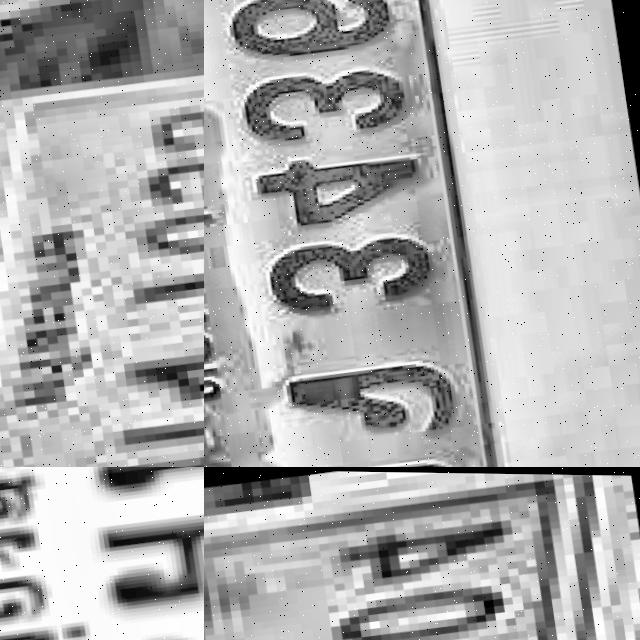license-plate: (204, 0, 532, 467), (0, 0, 204, 467), (204, 467, 640, 640), (0, 467, 204, 640)
